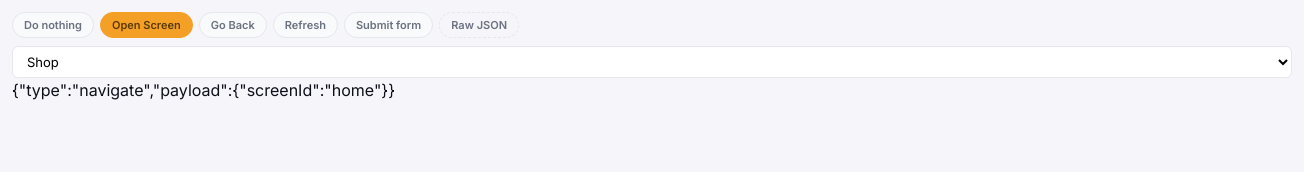
Test: attaches a screen, edits an existing object action, and clears the attachment
Select "Details" in the dropdown named "Destination page" at (652, 62), box [12,46,1292,78]
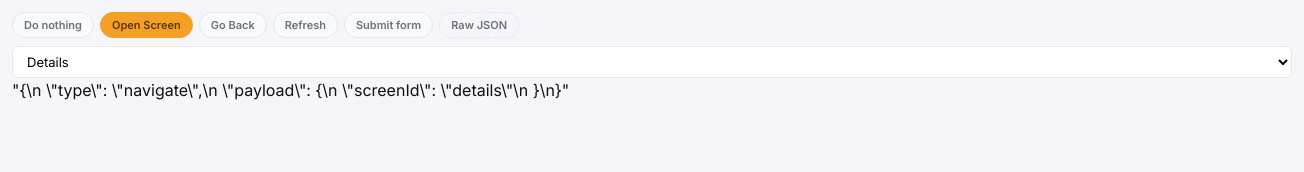
Click the button "Do nothing" at (53, 25), box [12,12,94,38]
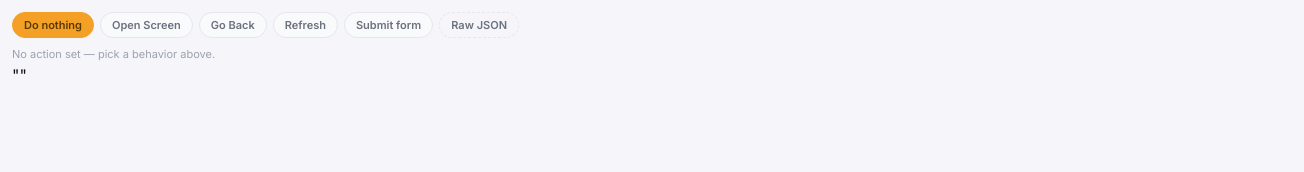
Click the button "Open Screen" at (146, 25), box [100,12,193,38]
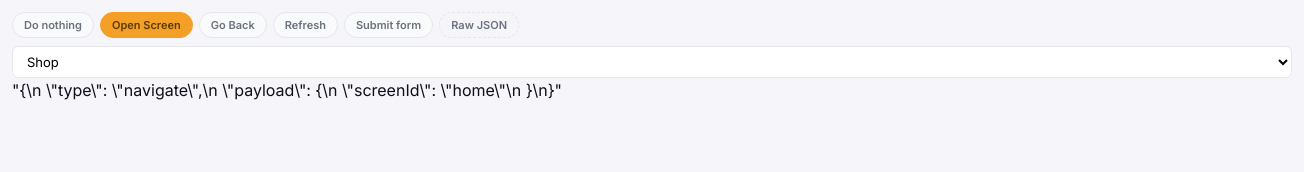
Expected: the dropdown named "Destination page" shows "Shop", [12,46,1292,78]
